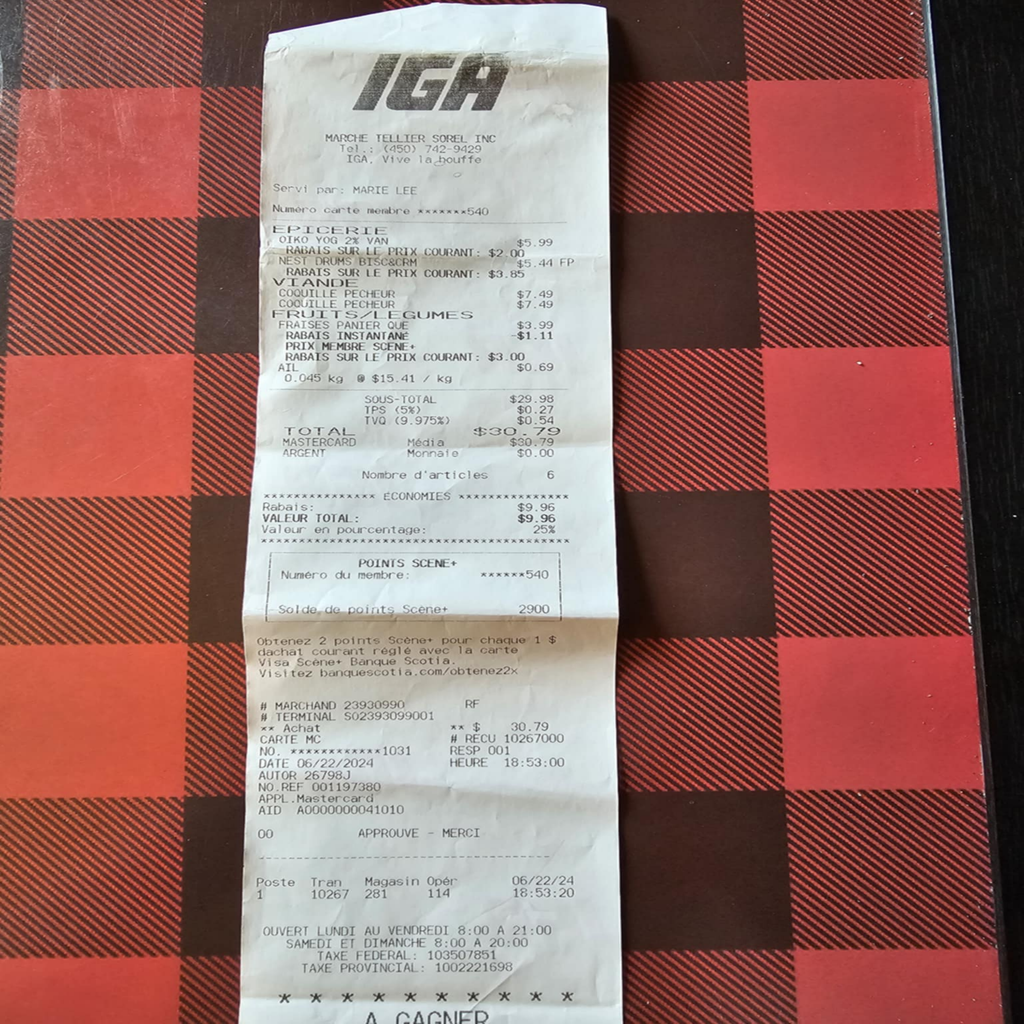recipt: (241, 4, 627, 1024)
